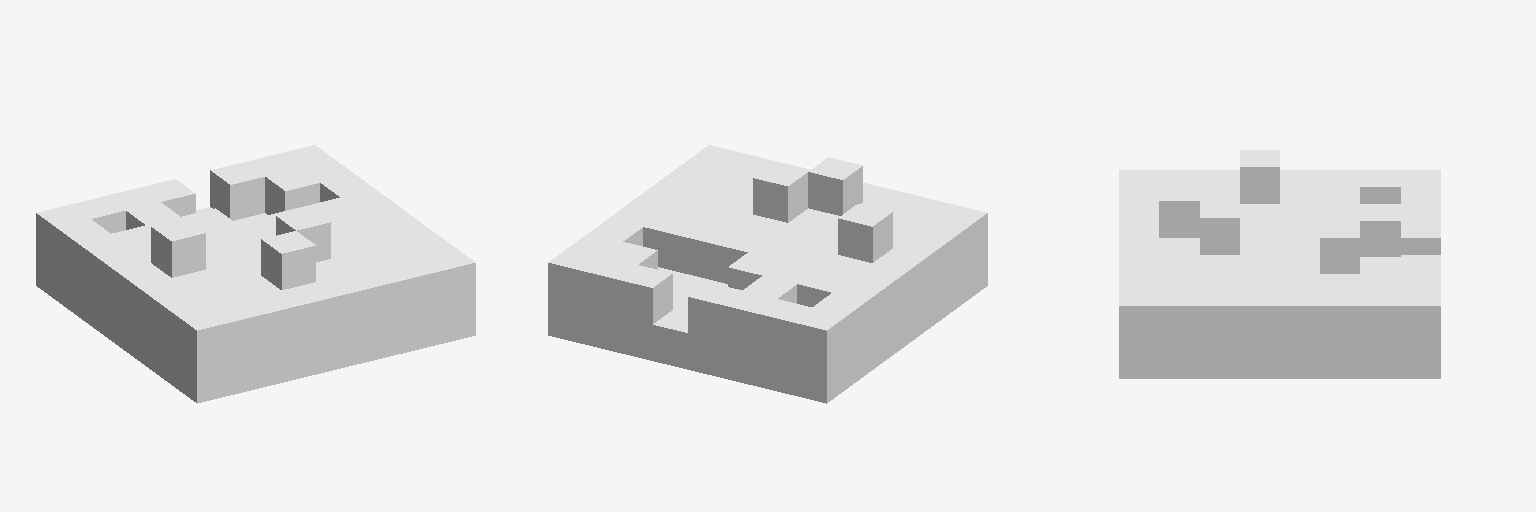
Rendered from GreenCorall15.obj.
3 renders of one model, left to right at view 1: azimuth 30°, elevation 25°; view 2: azimuth 150°, elevation 25°; view 3: azimuth 270°, elevation 25°, orthographic.
Visible parts, largest first — view 1: object 1; view 2: object 1; view 3: object 1.
Part boxes in pixels (x1,y1,x2,y2): object 1: (36,145,475,403); object 1: (548,145,987,403); object 1: (1119,150,1440,378).
Bounding box in the file's own units: 0.8 × 0.3 × 0.8.